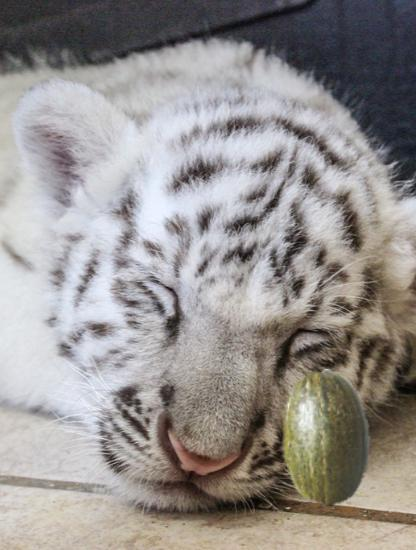Melon: (258, 369, 396, 507)
